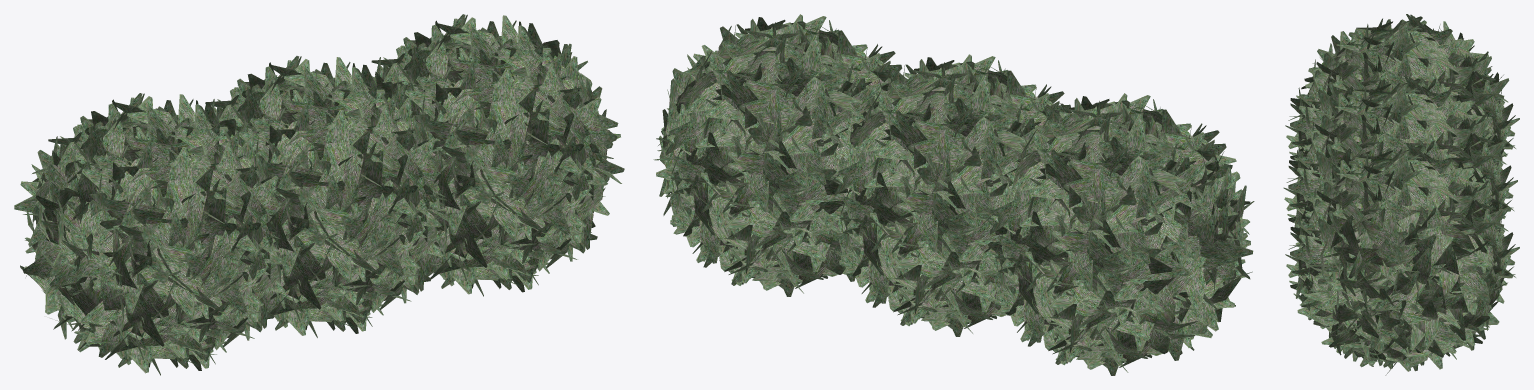
Rendered from arbusto.obj.
3 views of the same model, side by side, from view 1: azimuth 30°, elevation 25°; view 2: azimuth 150°, elevation 25°; view 3: azimuth 270°, elevation 25° (orthographic). The views are drawn at different scales.
Visible parts, largest first — view 1: Плоскость.002; view 2: Плоскость.002; view 3: Плоскость.002.
Boxes of the visible parts, x1,y1,x2,y2 form: Плоскость.002: (14,14,624,375); Плоскость.002: (653,14,1254,375); Плоскость.002: (1283,14,1519,375).
Size of the model in its own units: 5.78 by 2.53 by 2.56.
1 material, 1 textured.
